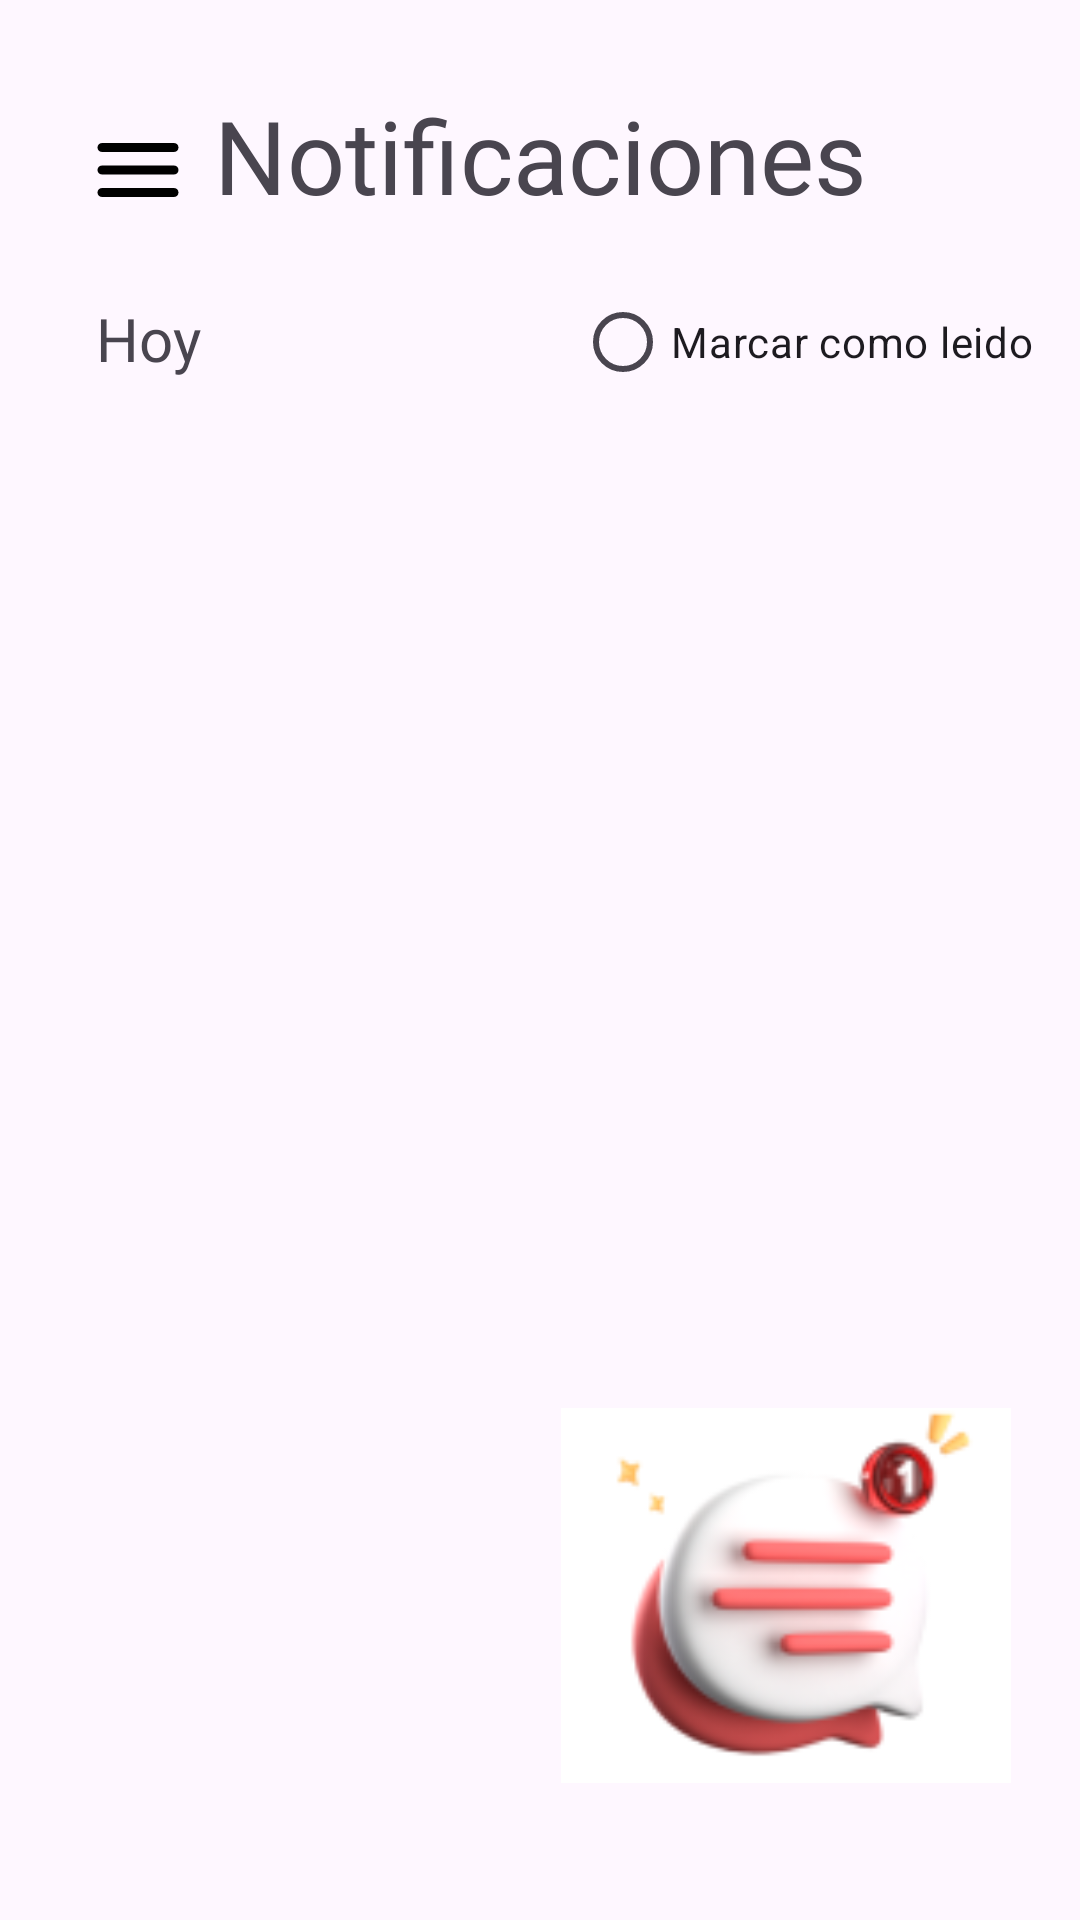

Screen size 1080px×1920px. Icon name, then its center in pixels as [x,y]:
menu: [138,170]
noti: [793,1584]
